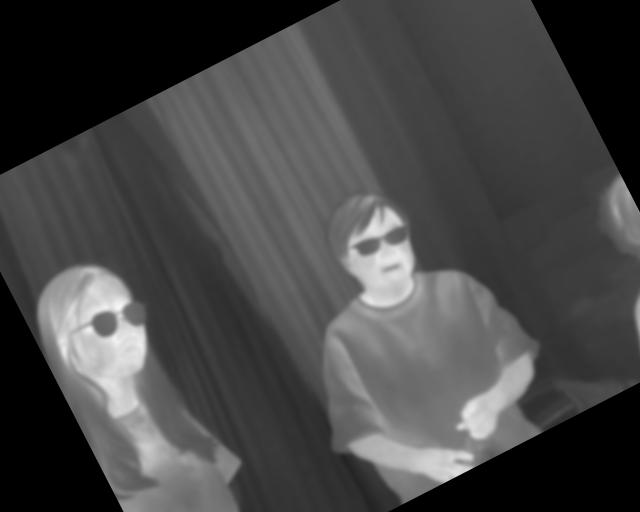face: (19, 245, 167, 403), (313, 176, 435, 307)
